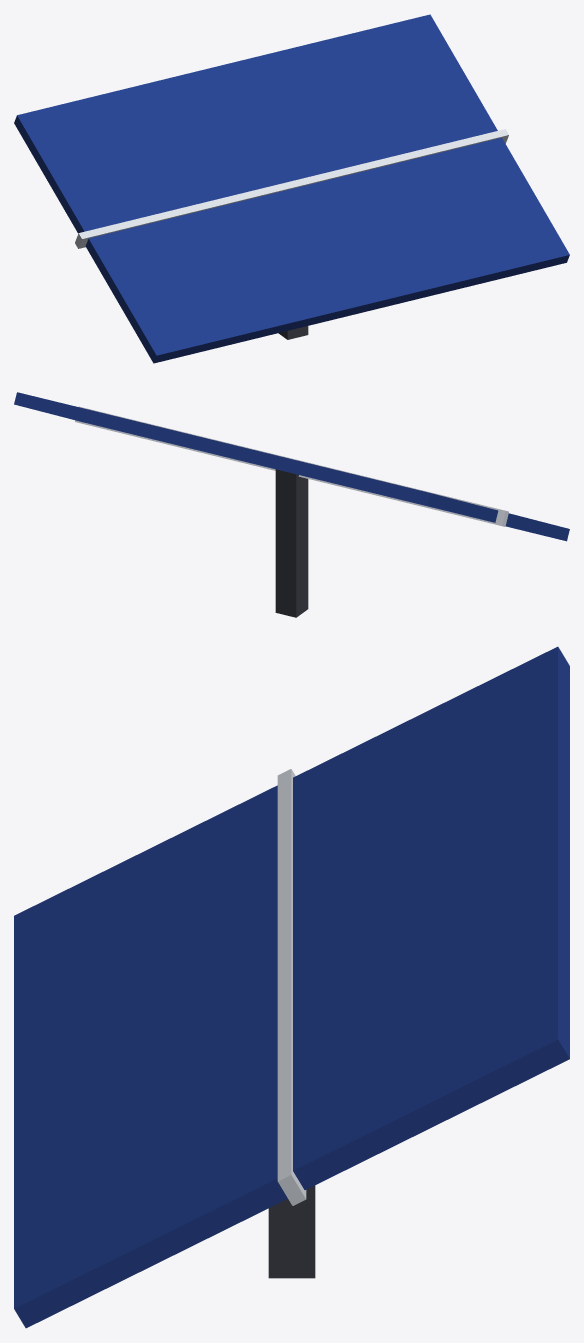
The model's file is colony-solar-panel.glb.
3 views of the same model, one above another, from view 1: azimuth 30°, elevation 25°; view 2: azimuth 150°, elevation 25°; view 3: azimuth 270°, elevation 25° (orthographic). The views are drawn at different scales.
Visible parts, largest first — view 1: solar_panel; view 2: solar_panel; view 3: solar_panel.
Boxes of the visible parts, x1,y1,x2,y2 form: solar_panel: [14, 14, 569, 363]; solar_panel: [14, 392, 569, 617]; solar_panel: [14, 646, 569, 1328].
Size of the model in its own units: 3.1 by 1.51 by 1.79.
